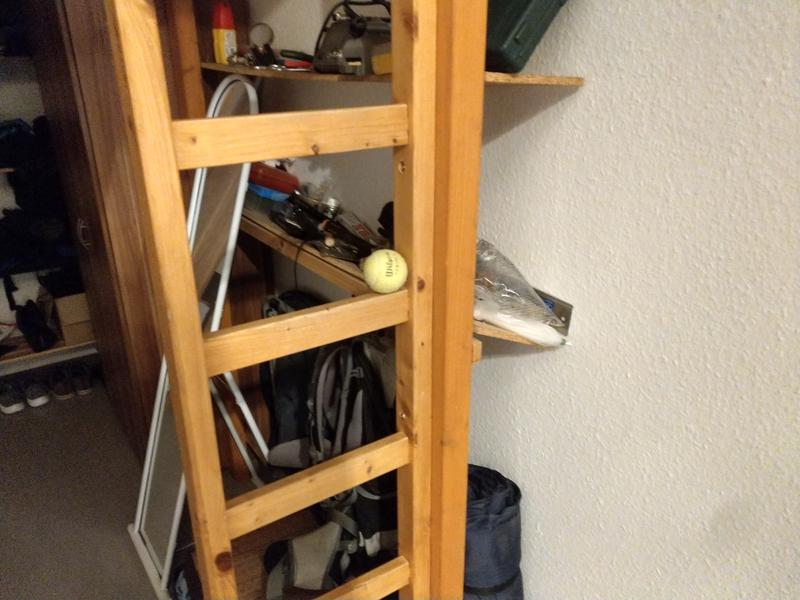Tennisball: (360, 246, 410, 297)
